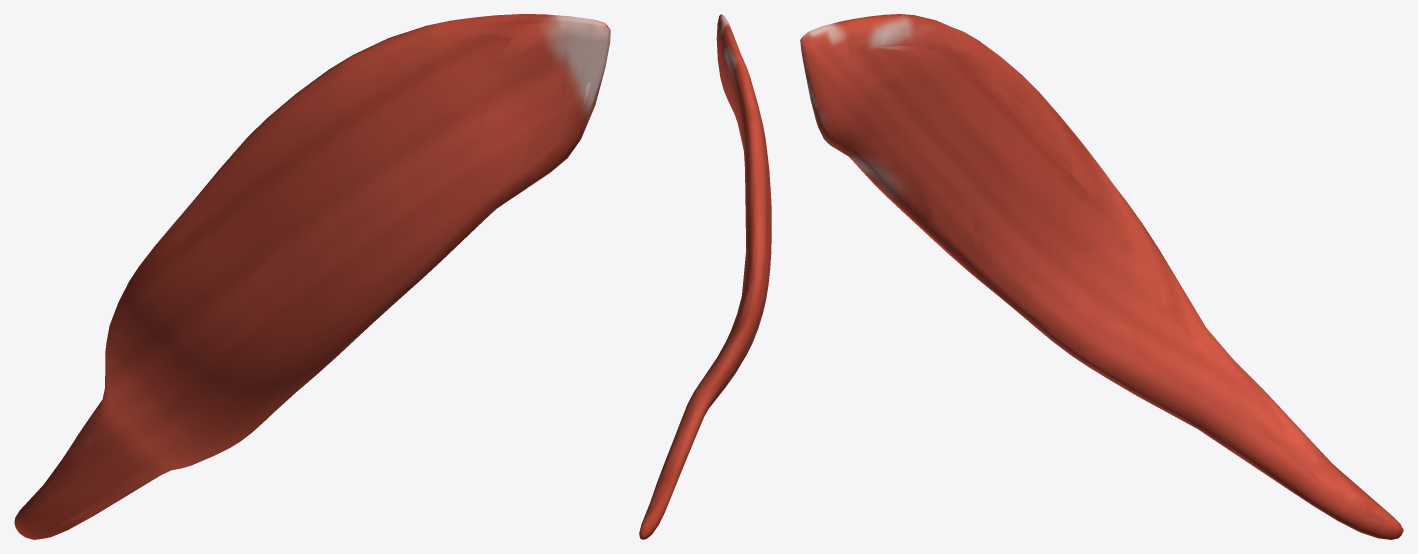
Rendered from R Brachiocephalicus.fbx.
The picture shows the model from 3 angles, left to right: view 1: azimuth 30°, elevation 25°; view 2: azimuth 150°, elevation 25°; view 3: azimuth 270°, elevation 25°; orthographic projection. The views are drawn at different scales.
Visible parts, largest first — view 1: R Brachiocephalicus, R Brachiocephalicus low; view 2: R Brachiocephalicus, R Brachiocephalicus low; view 3: R Brachiocephalicus low, R Brachiocephalicus.
Boxes of the visible parts, x1,y1,x2,y2 form: R Brachiocephalicus: [14, 14, 610, 539]; R Brachiocephalicus low: [15, 22, 607, 539]; R Brachiocephalicus: [639, 14, 771, 539]; R Brachiocephalicus low: [641, 29, 767, 534]; R Brachiocephalicus low: [800, 22, 1390, 532]; R Brachiocephalicus: [800, 14, 1403, 539].
Size of the model in its own units: 9.79 by 24.03 by 22.33.
